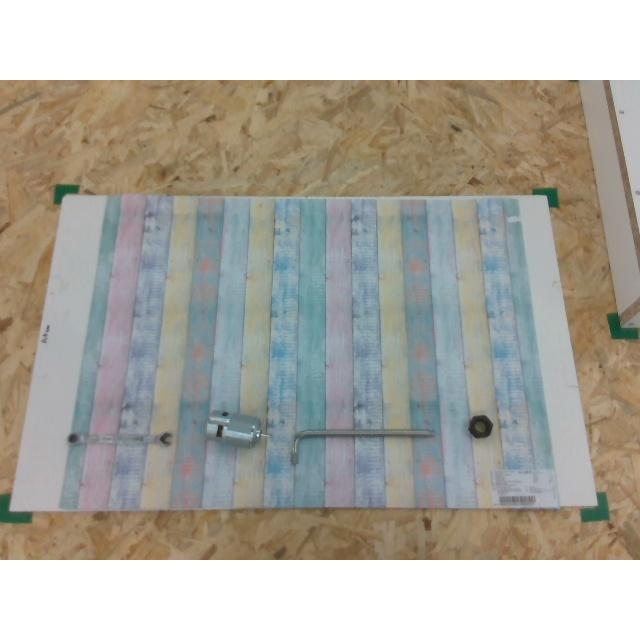AllenKey: (291, 427, 434, 463)
M20: (468, 414, 492, 436)
Motor2: (208, 410, 266, 446)
Wrench: (67, 432, 173, 446)
